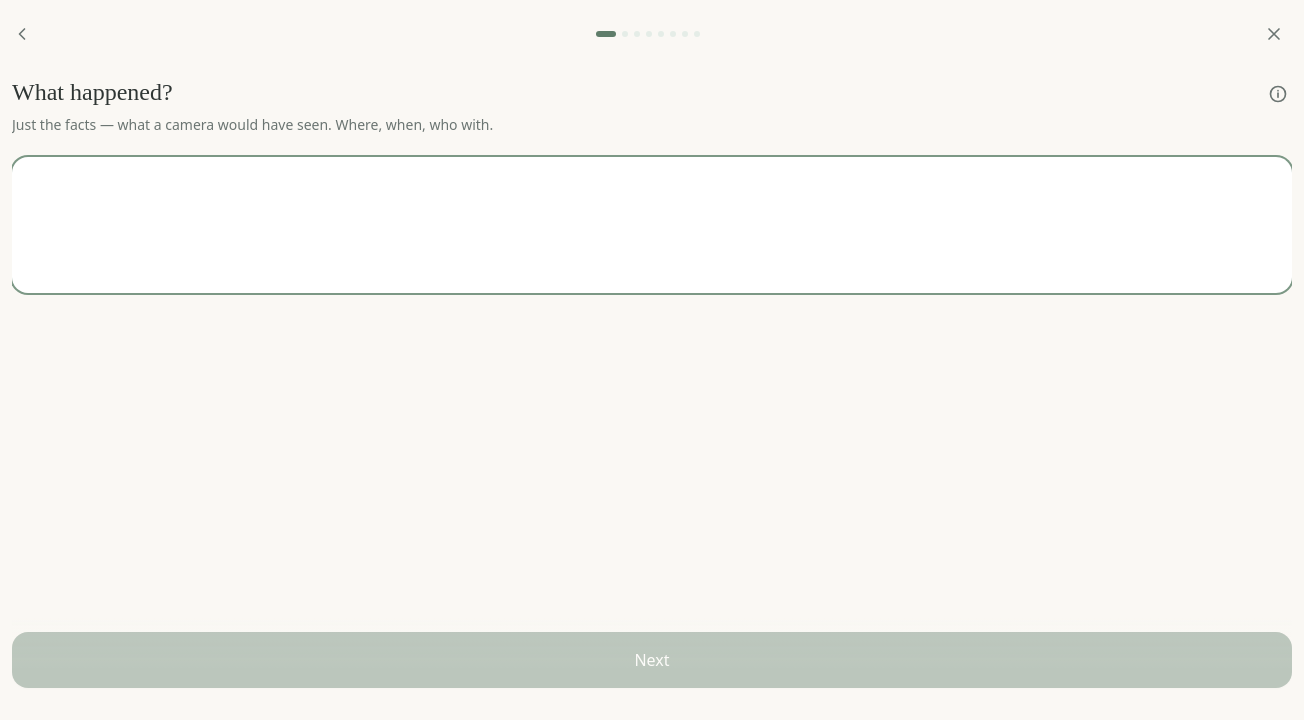
Test: with worksheetFormat set to classic, /new starts the classic flow
This screenshot has width=1304, height=720.
Expected: the heading "What happened?" is shown, [12, 76, 173, 108]
Type "Something happened at the shops" into the text box.
click(652, 225); type("Something happened at the shops")  # box [12, 157, 1292, 293]
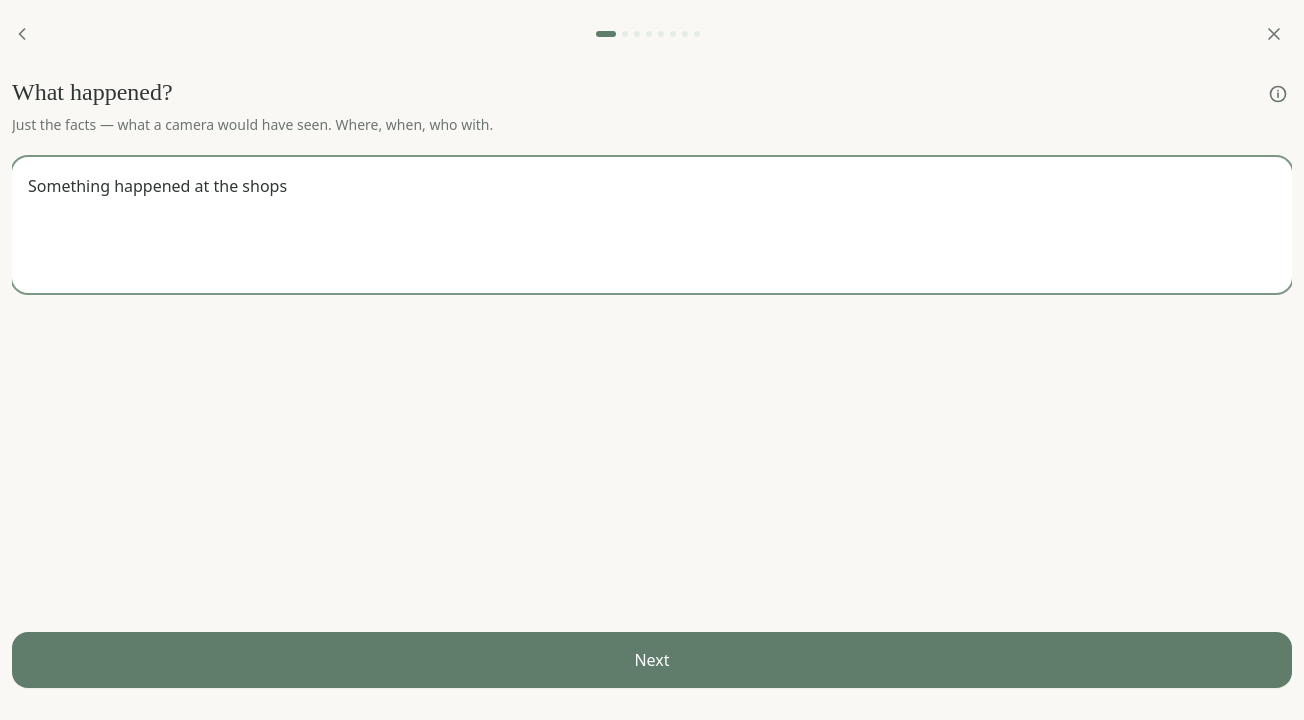
Click the button "Next".
click(652, 660)  # box [12, 632, 1292, 688]
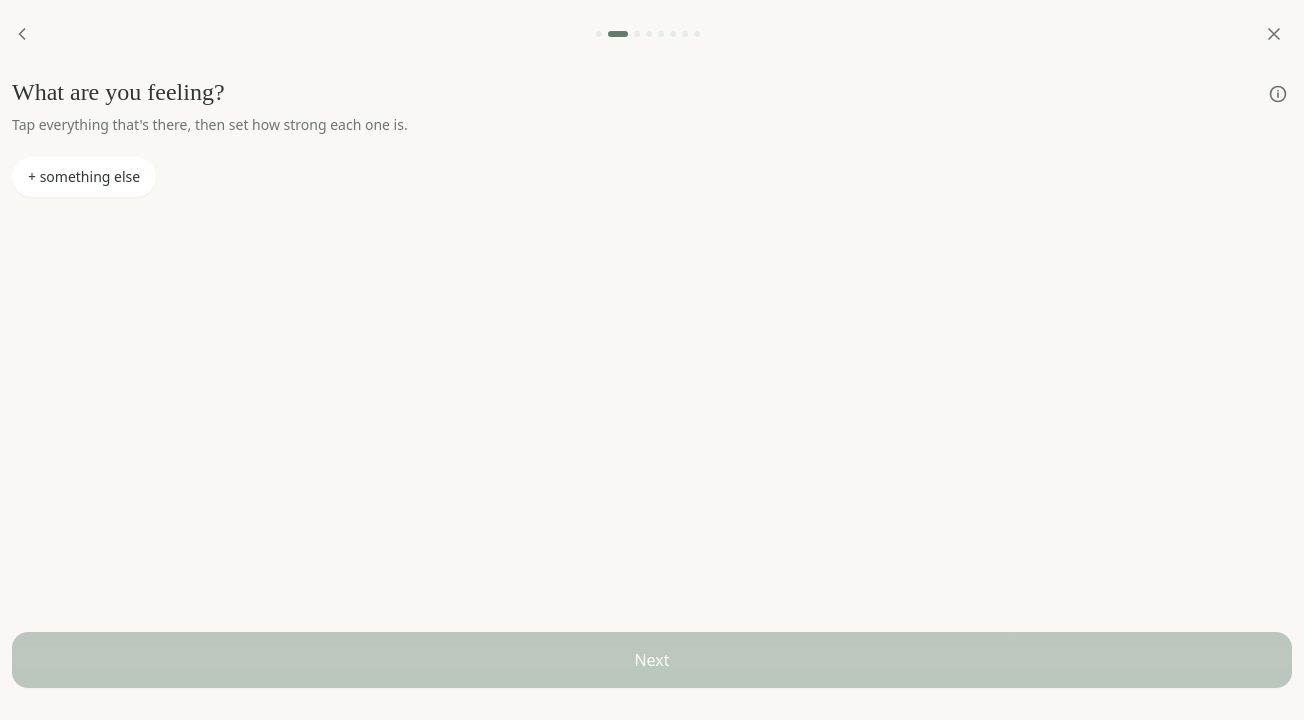
Expected: the heading "What are you feeling?" is shown, [12, 76, 225, 108]
